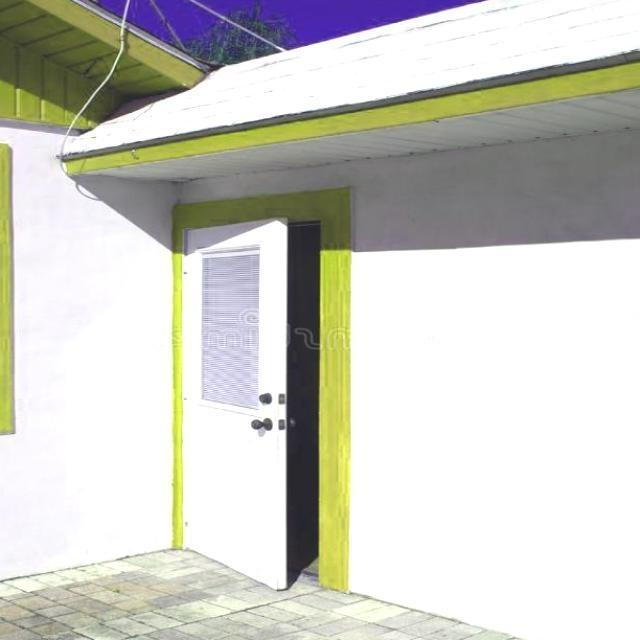door: (173, 211, 295, 594)
